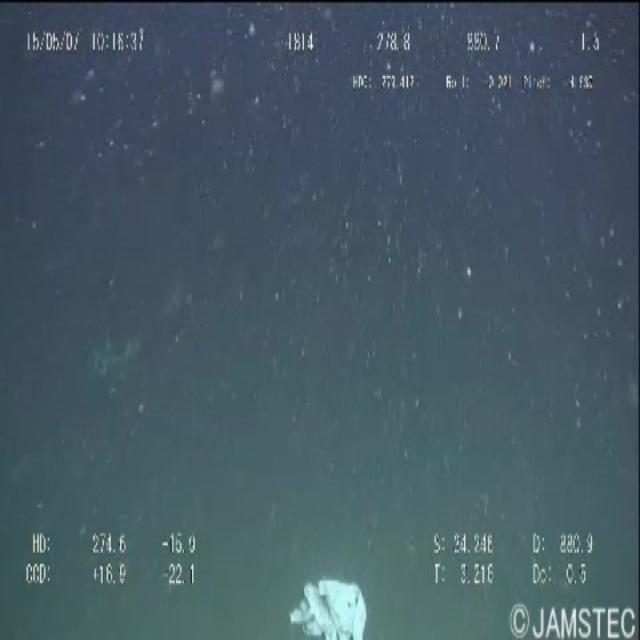Plastic: (278, 563, 379, 640)
